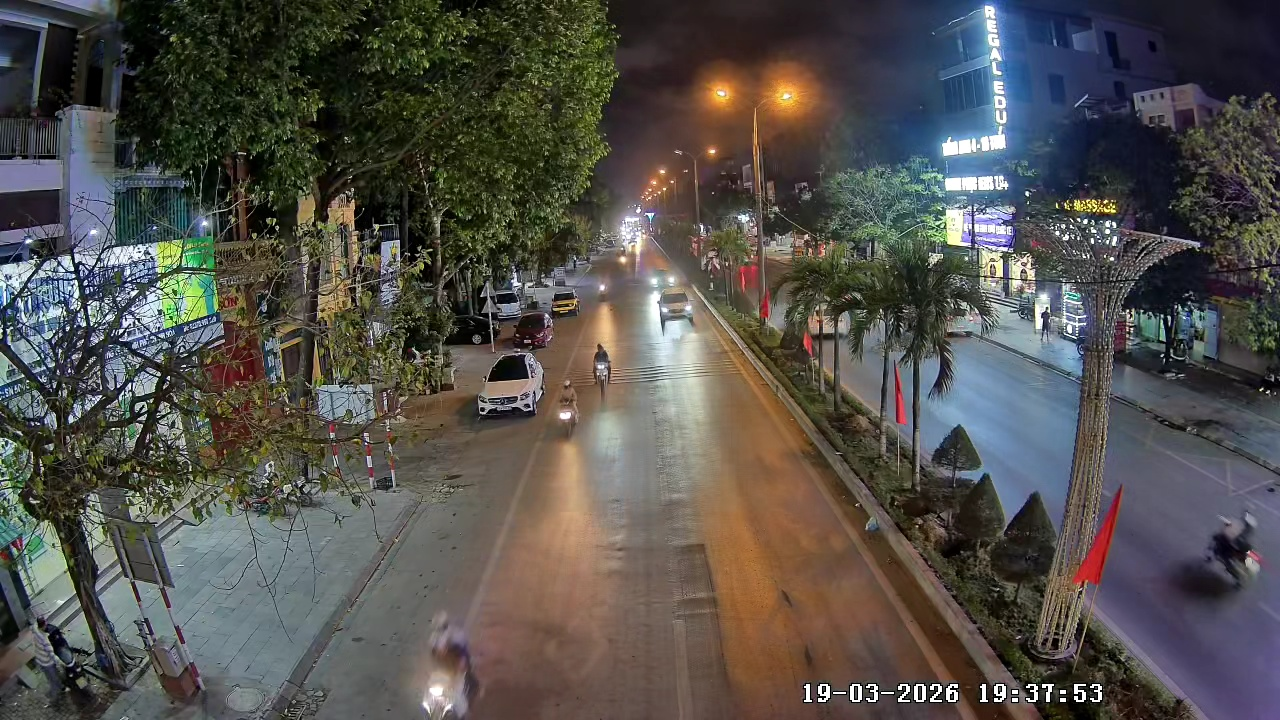car: (475, 347, 548, 419), (512, 308, 553, 349), (657, 289, 694, 322), (551, 280, 578, 317), (644, 261, 678, 290)
motorbike: (1202, 506, 1264, 595), (555, 379, 581, 439), (591, 341, 613, 393), (593, 272, 615, 302)
